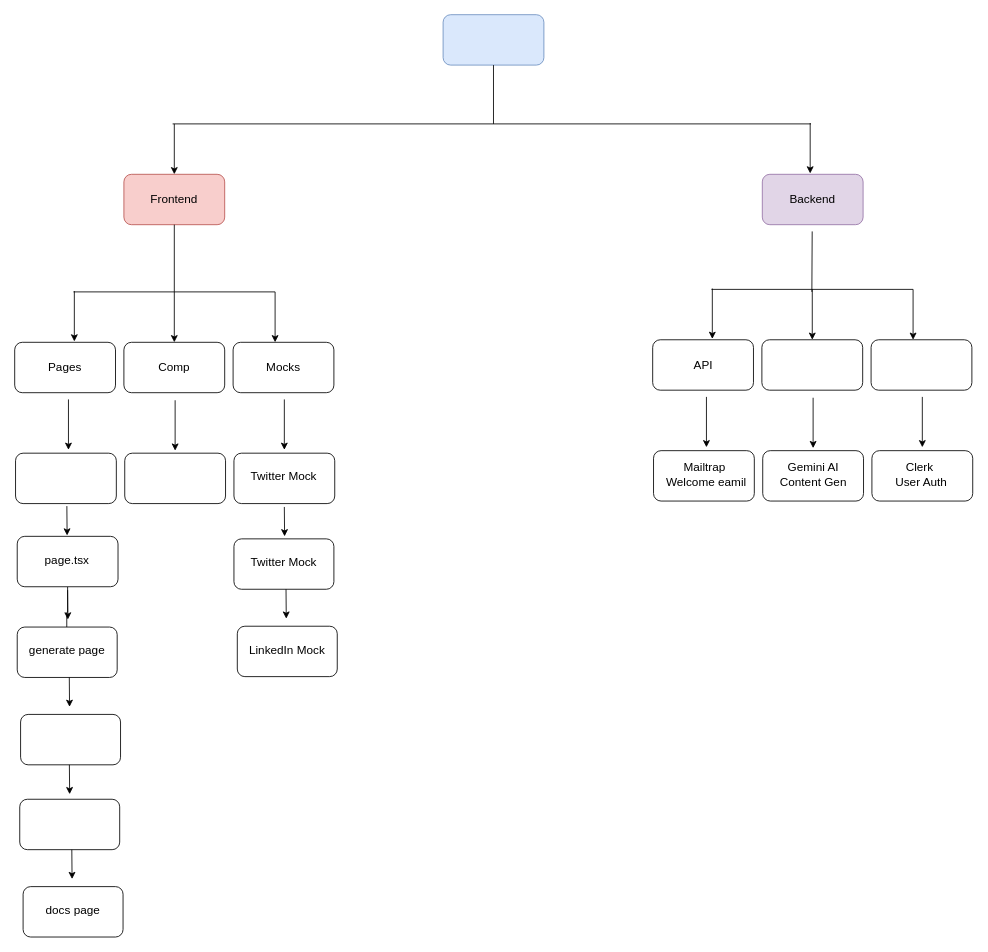
Some shapes in this 988 by 952 pixel diagram are drawn without their labels. Here are the shapes that lost their labels. From the top down, the box of each, then its label:
(442, 14, 544, 65): Content Flash
(761, 339, 863, 390): AI
(870, 339, 972, 390): Auth
(15, 452, 116, 504): layout.tsx
(124, 452, 226, 504): Navbar.tsx
(20, 714, 121, 765): sign in / sign out
(19, 798, 120, 850): Pricing page
